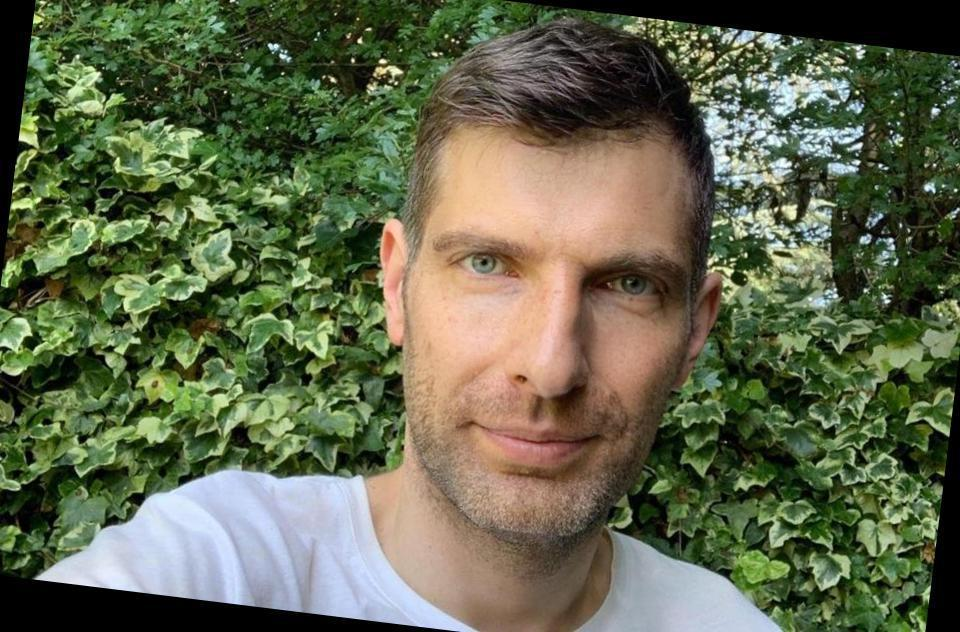Sober: (432, 127, 675, 525)
